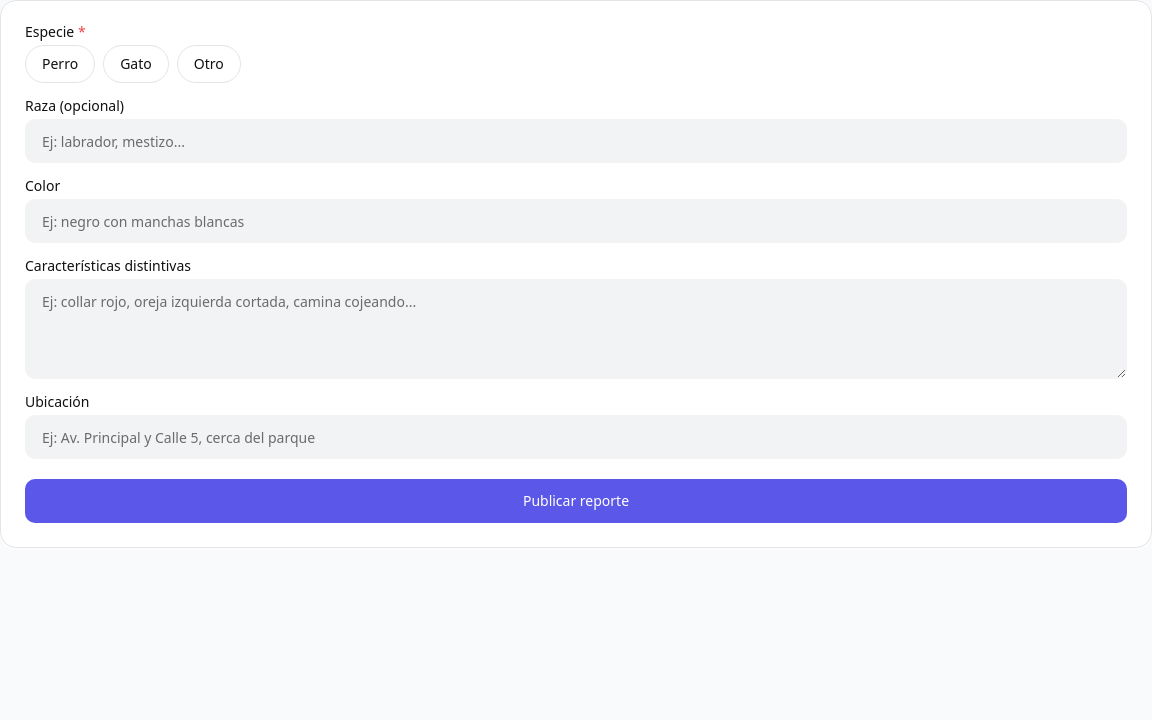
Test case: ReporteForm (HU1/HU3 — rediseño Figma) › HU9 — punto en el mapa › AC1: la dirección escrita sigue siendo válida sin punto en el mapa
Click the radio button labelled "perro".
click(60, 64)  # box [25,45,95,83]
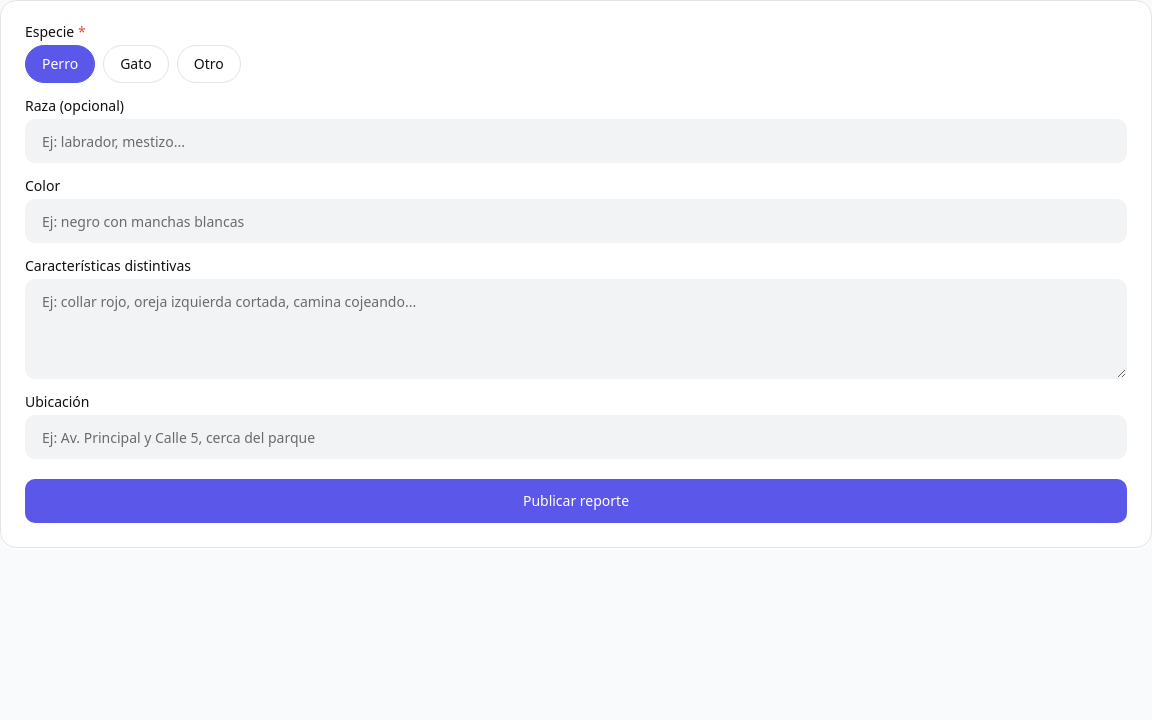
Type "negro" into the field labelled "Color".
click(576, 221); type("negro")  # box [25,199,1127,243]
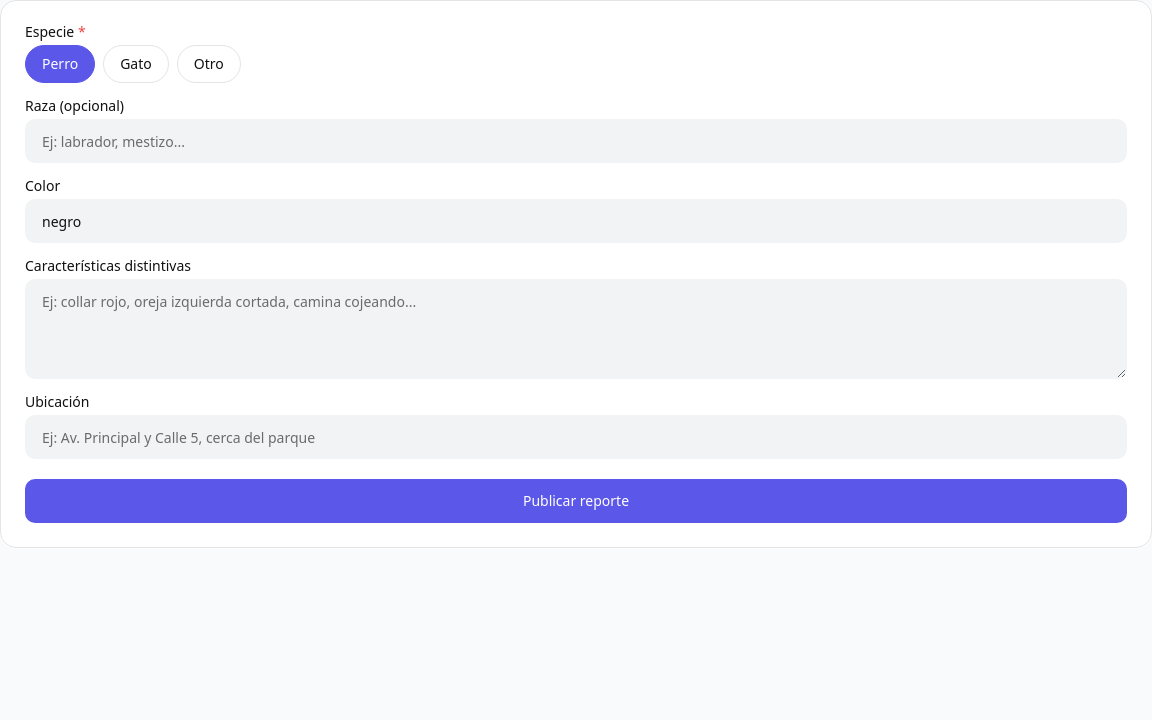
Type "collar rojo" into the text box labelled "Características distintivas".
click(576, 329); type("collar rojo")  # box [25,279,1127,379]
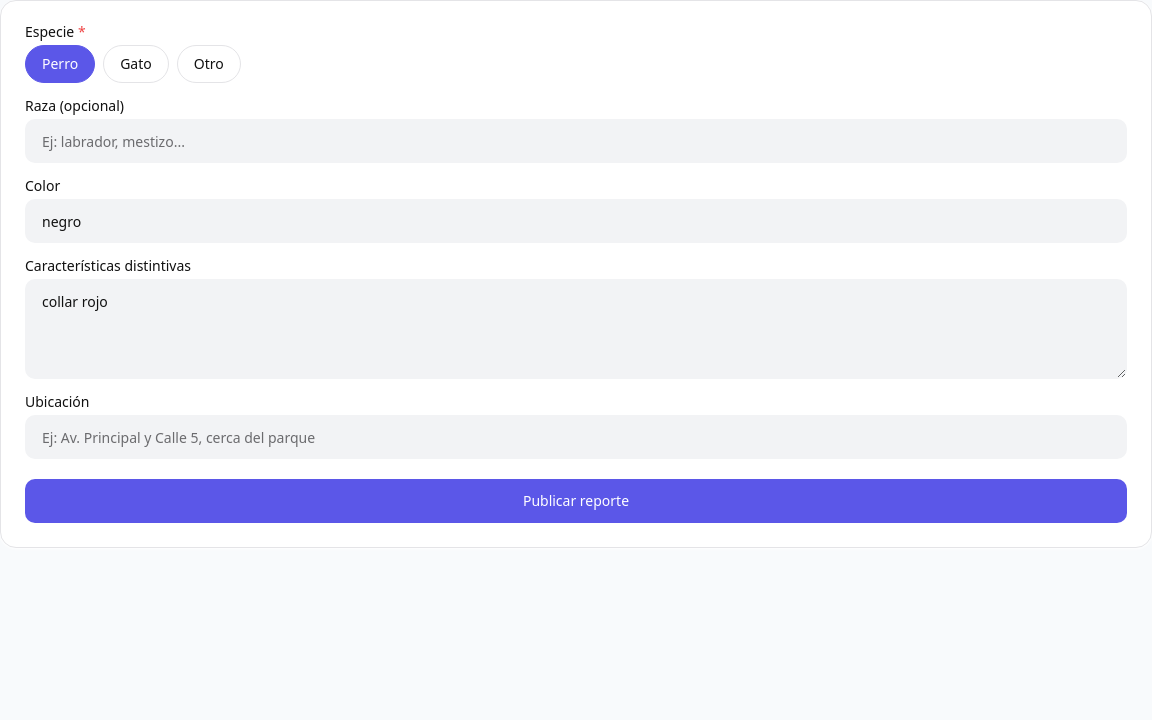
Type "Av. Principal con Calle 5" into the field labelled "Ubicación".
click(576, 437); type("Av. Principal con Calle 5")  # box [25,415,1127,459]
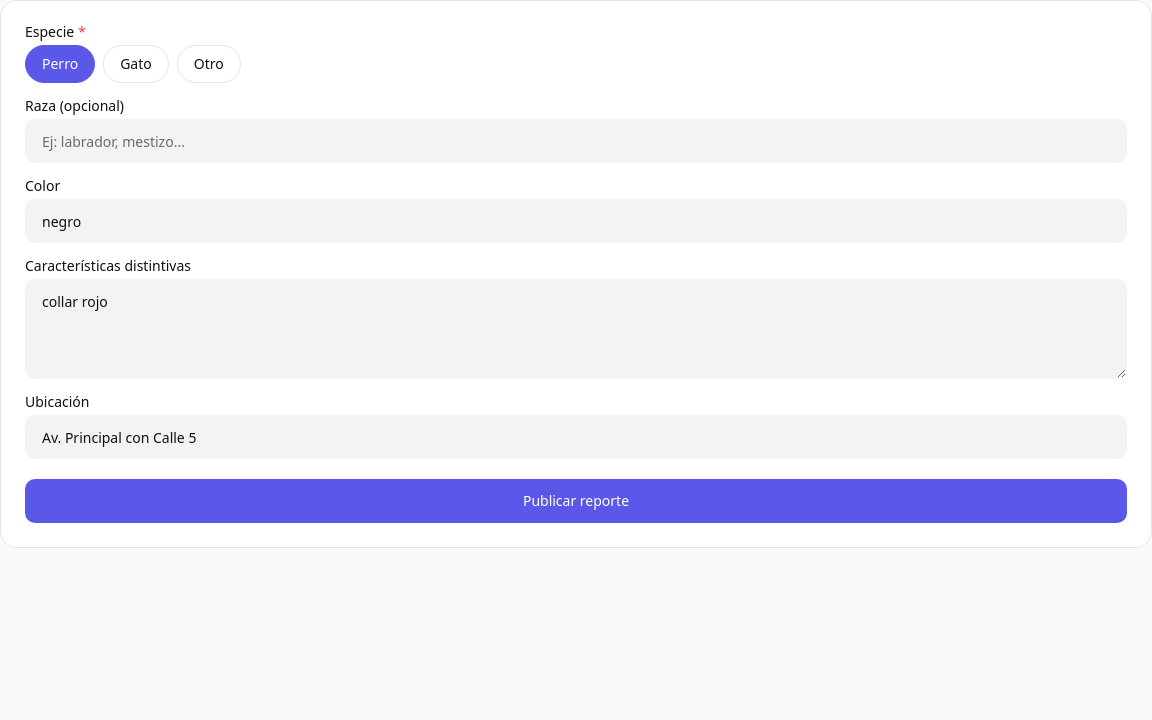
Click the button "Publicar reporte".
click(576, 501)  # box [25,479,1127,523]
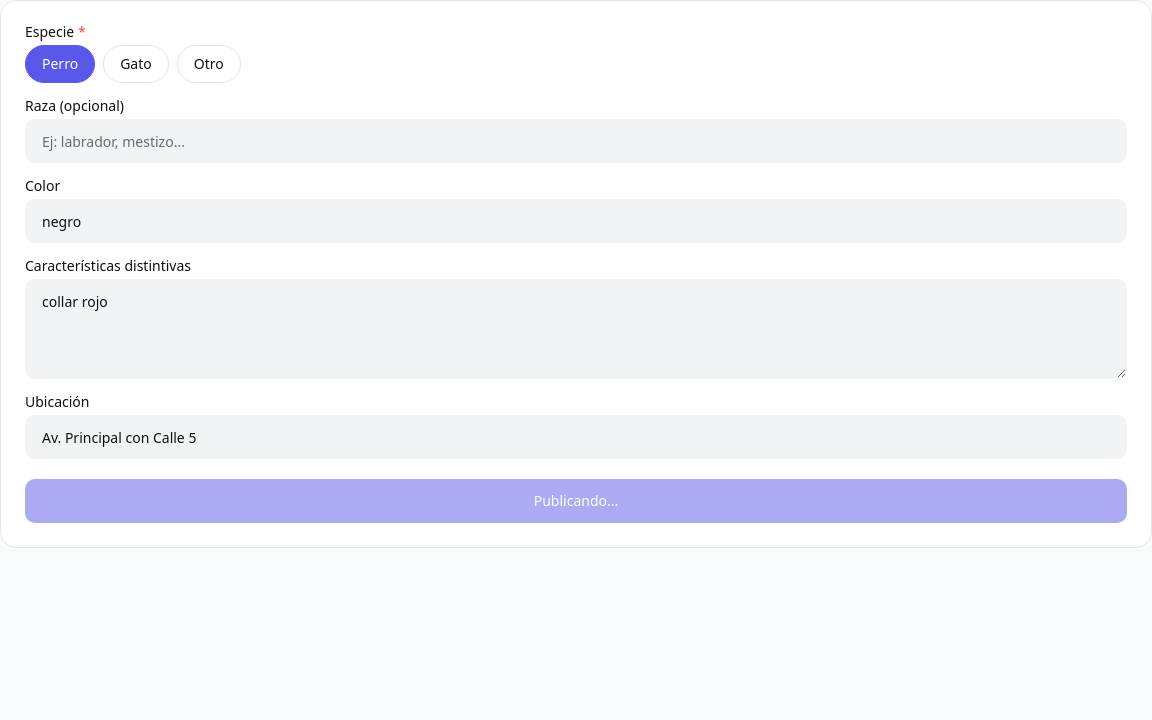
Now the button "Publicando..." is shown, box [25,479,1127,523]
